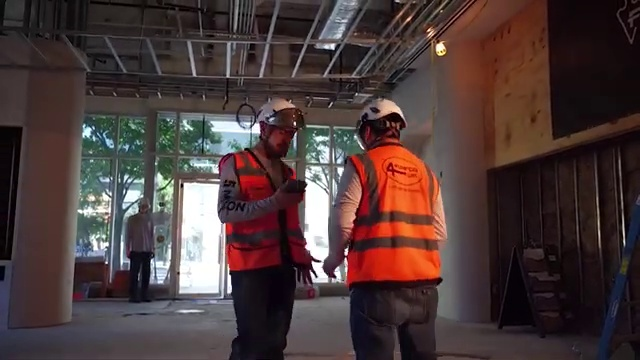helmet: (354, 95, 414, 139), (255, 93, 307, 136)
jacket: (340, 152, 444, 283), (218, 150, 314, 279)
